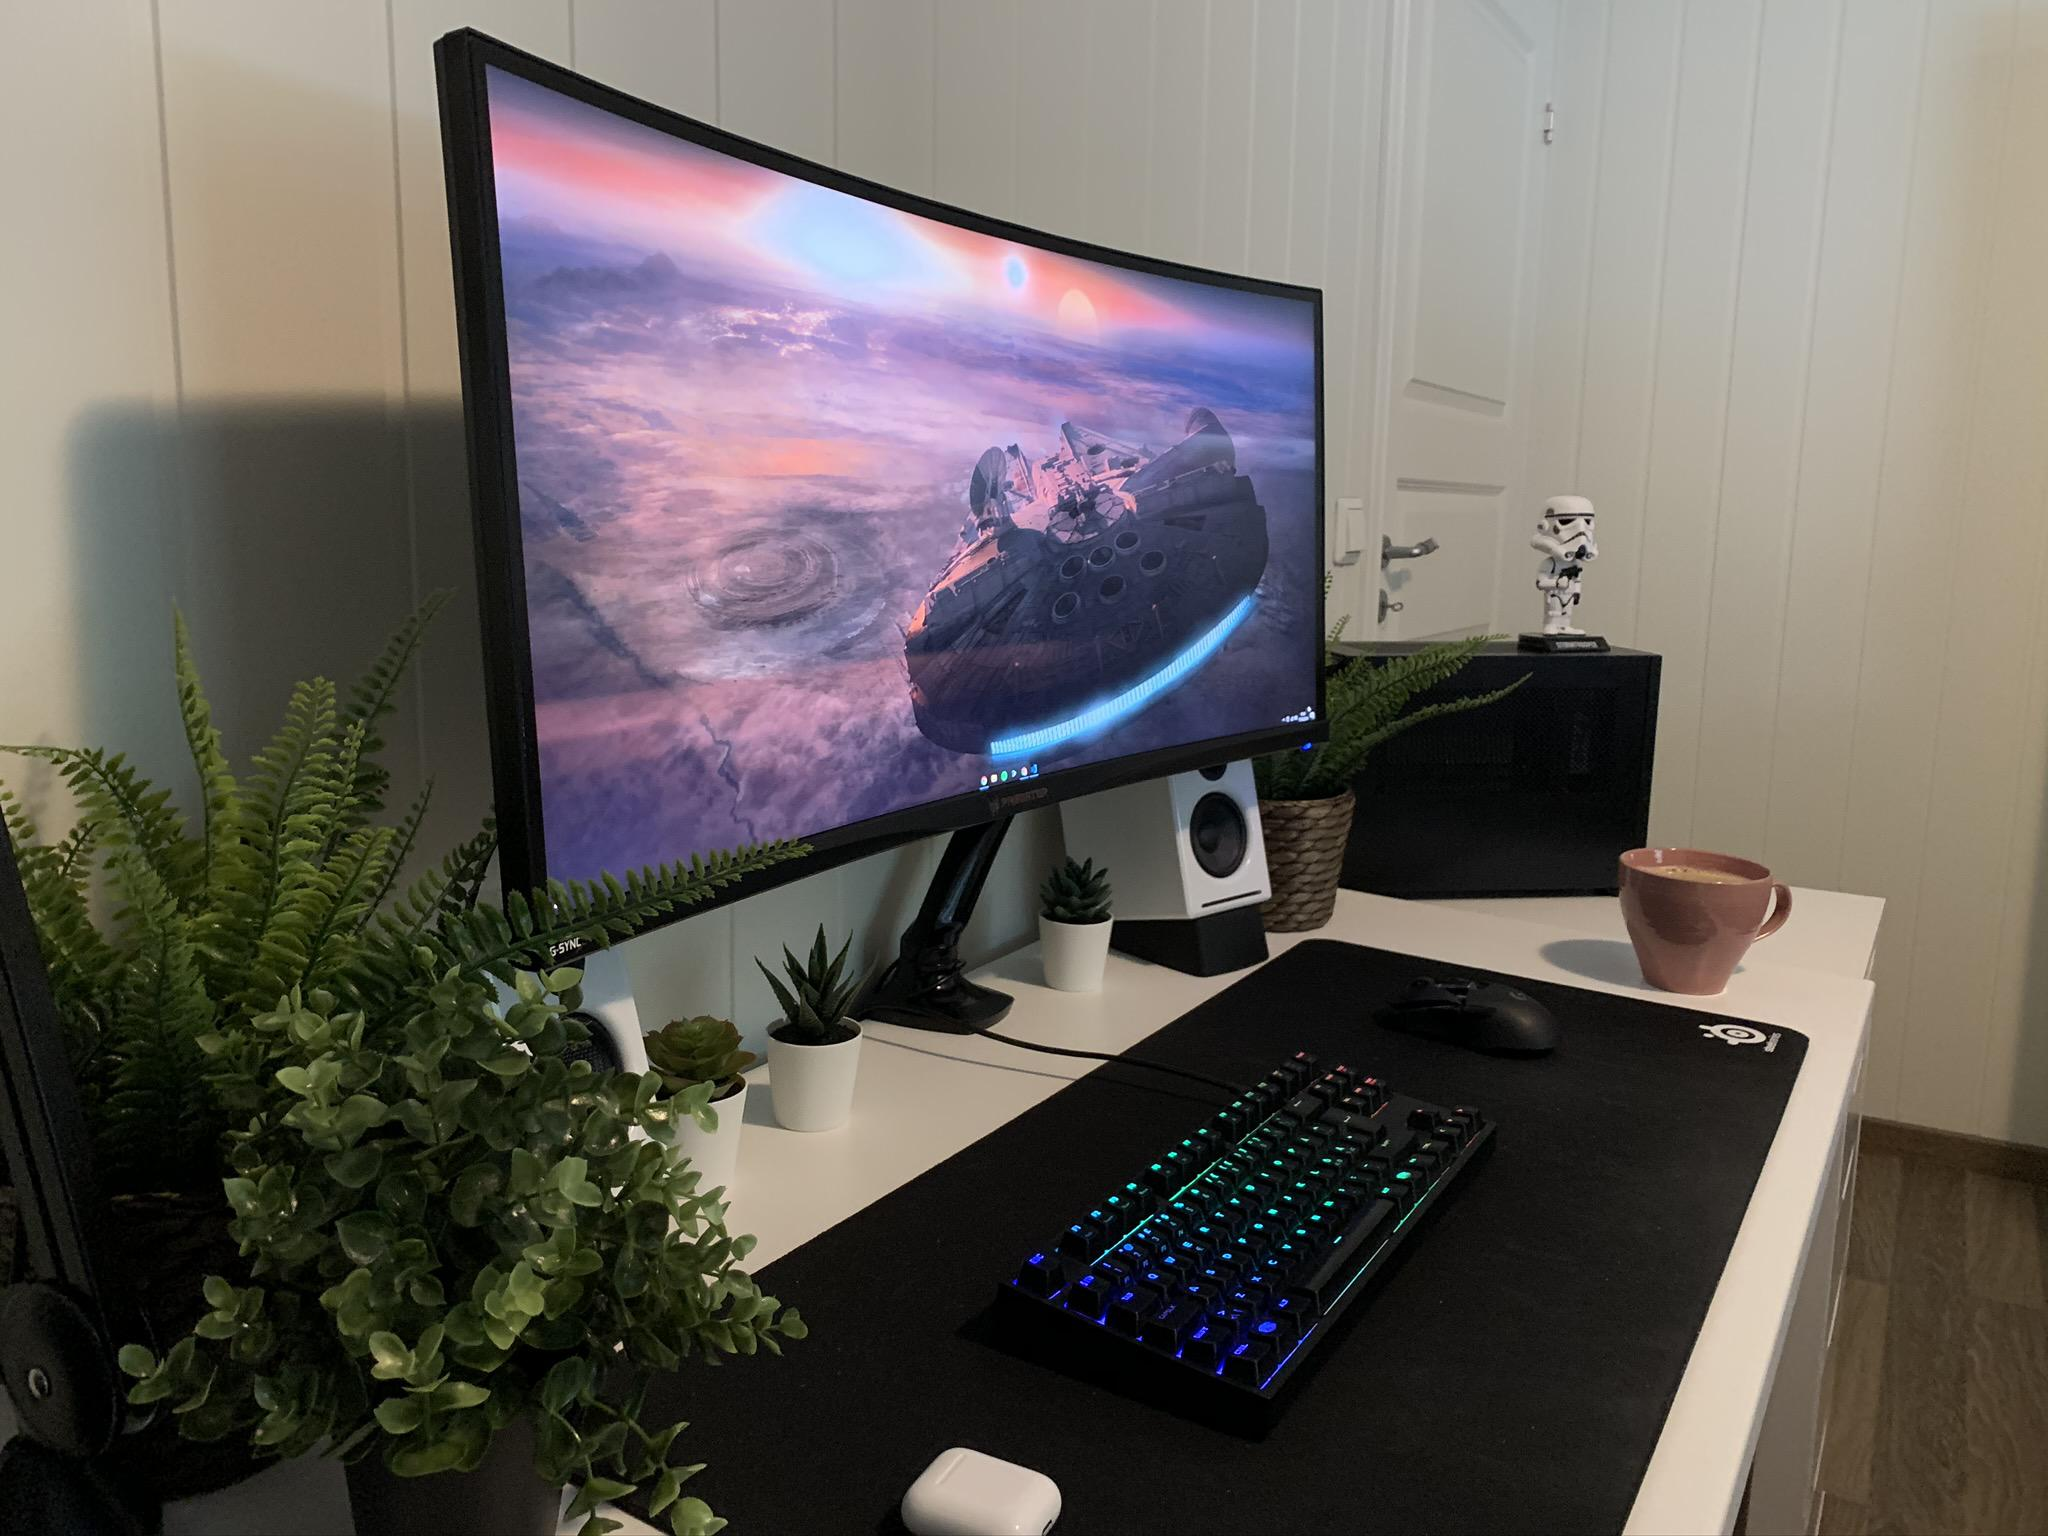Airpods (Apple): (872, 1425, 1087, 1528)
Decoration (Miniature): (1508, 494, 1637, 657)
Decoration (Plant): (179, 879, 672, 1525), (1219, 691, 1408, 941), (739, 936, 871, 1150), (631, 995, 763, 1187), (1026, 854, 1130, 987)
Desk (Generic): (34, 884, 1898, 1525)
Desktop (Windows): (1287, 611, 1653, 916)
External Speakers (Subwoofers): (447, 887, 693, 1192), (1056, 721, 1305, 979)
Keyboard (Gaming): (1006, 1008, 1535, 1433)
Monitor (Landscape): (387, 32, 1345, 805)
Mouse (Gaming): (1367, 965, 1608, 1062)
Mousepad (Gaming): (768, 984, 1730, 1525)
Mug: (1596, 845, 1804, 987)
